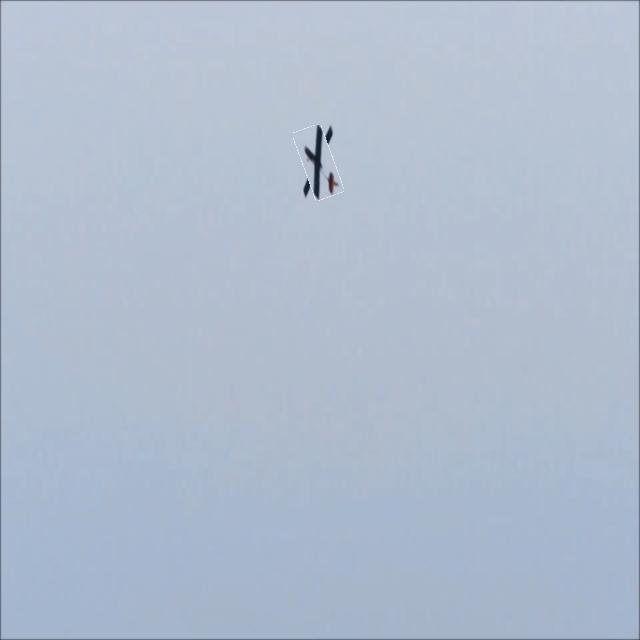iha: (292, 152, 340, 169)
